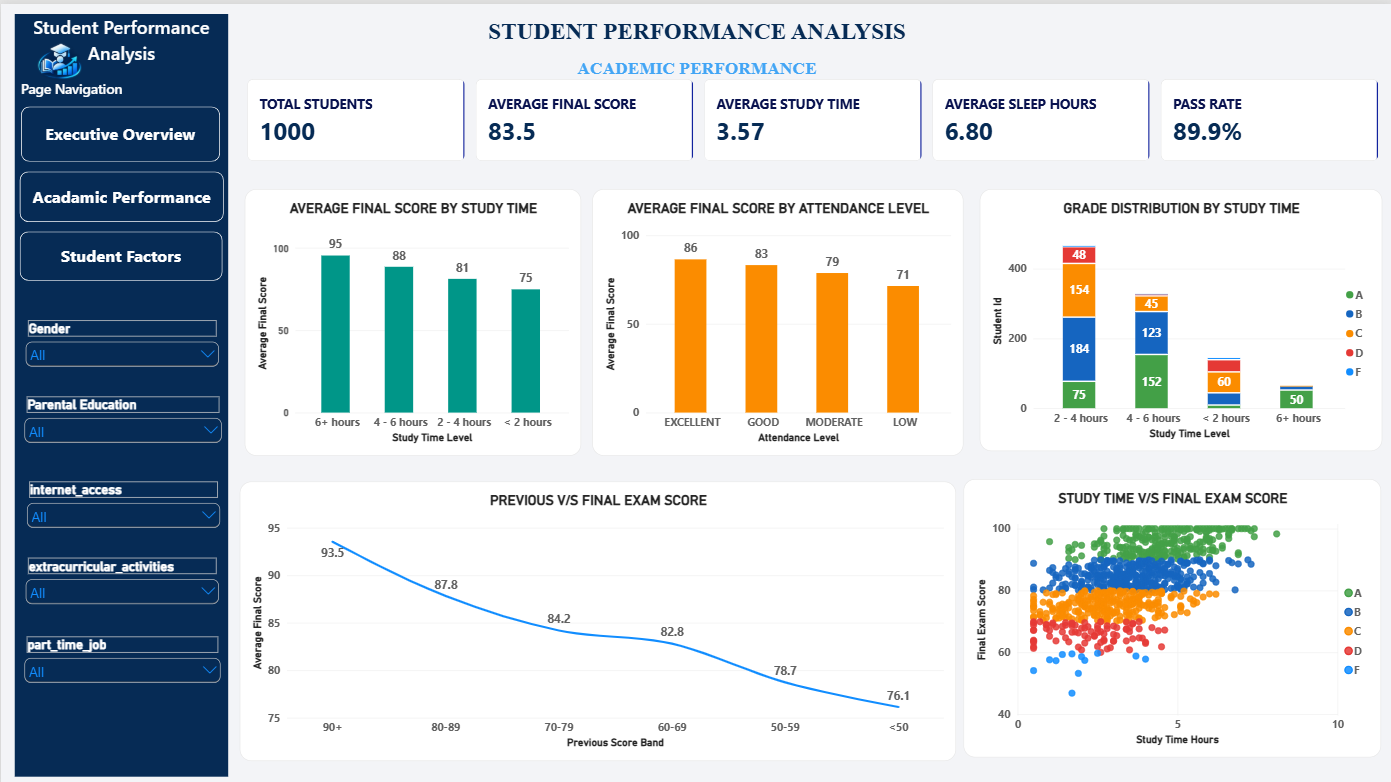

The dashboard page shown, as its layout file describes it:
{"tool":"powerbi","page":{"name":"Acadamic Performance","canvas":[1920,1080],"ordinal":1},"visuals":[{"type":"textbox","box":[0,0,1920.4,123.5],"z":0},{"type":"textbox","box":[0,255,329,385],"z":1000},{"type":"textbox","title":"Student Performance","box":[18.5,14.4,294.3,1051.8],"z":2000},{"type":"textbox","title":"Page Navigation","box":[27.1,103.4,313.6,37.3],"z":3000},{"type":"slicer","fields":{"Values":["student_performance_dataset.gender"]},"box":[29.1,436.4,275.8,72],"z":4000},{"type":"slicer","fields":{"Values":["student_performance_dataset.parental_education"]},"box":[27.3,541.8,282,74.1],"z":5000},{"type":"slicer","fields":{"Values":["student_performance_dataset.internet_access"]},"box":[30.9,658.2,275.8,82.3],"z":6000},{"type":"slicer","fields":{"Values":["student_performance_dataset.extracurricular_activities"]},"box":[29.1,763.6,276.4,87.3],"z":7000},{"type":"slicer","fields":{"Values":["student_performance_dataset.part_time_job"]},"box":[27.3,872.7,280,92.7],"z":8000},{"type":"actionButton","box":[27.1,140.7,274.6,76.3],"z":9000},{"type":"actionButton","box":[25.4,230.5,281.4,69.5],"z":10000},{"type":"actionButton","box":[25.4,313.6,279.7,67.8],"z":11000},{"type":"columnChart","title":"GRADE DISTRIBUTION BY STUDY TIME","fields":{"Category":["student_performance_dataset.Study Time Level"],"Y":["CountNonNull(student_performance_dataset.student_id)"],"Series":["student_performance_dataset.final_grade"]},"box":[1350,255.2,555.6,361.9],"z":12000},{"type":"lineChart","title":"PREVIOUS V/S FINAL EXAM SCORE","fields":{"Category":["student_performance_dataset.Previous Score Band"],"Y":["student_performance_dataset.Average Final Score"]},"box":[329.4,658.7,988.1,385.5],"z":13000},{"type":"scatterChart","title":"STUDY TIME V/S FINAL EXAM SCORE","fields":{"X":["Sum(student_performance_dataset.study_time_hours)1"],"Series":["student_performance_dataset.final_grade"],"Y":["student_performance_dataset.final_exam_score"]},"box":[1328,656,576,384],"z":14000},{"type":"cardVisual","fields":{"Data":["student_performance_dataset.Total Students","student_performance_dataset.Average Final Score","student_performance_dataset.Average Study Time","student_performance_dataset.average sleep hours","student_performance_dataset.Pass Rate"]},"box":[340.2,103.2,1560.2,113.2],"z":15000},{"type":"image","box":[32,48,96,64],"z":16000},{"type":"clusteredColumnChart","title":"AVERAGE FINAL SCORE BY STUDY TIME","fields":{"Category":["student_performance_dataset.Study Time Level"],"Y":["student_performance_dataset.Average Final Score"]},"box":[336,256,464,368],"z":17000},{"type":"clusteredColumnChart","title":"AVERAGE FINAL SCORE  BY ATTENDANCE LEVEL","fields":{"Category":["student_performance_dataset.Attendance Level"],"Y":["student_performance_dataset.Average Final Score"]},"box":[816,256,512,368],"z":18000}]}

Visuals, with their boxes in screenshot pixels (x1, y1, x2, y2), scaled from the page's 1920x1080 canvas onto the 1391x782 screenshot:
textbox: [x1=0, y1=0, x2=1390, y2=89]
textbox: [x1=0, y1=185, x2=238, y2=463]
"Student Performance" textbox: [x1=13, y1=10, x2=227, y2=772]
"Page Navigation" textbox: [x1=20, y1=75, x2=247, y2=102]
slicer - student_performance_dataset.gender: [x1=21, y1=316, x2=221, y2=368]
slicer - student_performance_dataset.parental_education: [x1=20, y1=392, x2=224, y2=446]
slicer - student_performance_dataset.internet_access: [x1=22, y1=477, x2=222, y2=536]
slicer - student_performance_dataset.extracurricular_activities: [x1=21, y1=553, x2=221, y2=616]
slicer - student_performance_dataset.part_time_job: [x1=20, y1=632, x2=223, y2=699]
actionButton: [x1=20, y1=102, x2=219, y2=157]
actionButton: [x1=18, y1=167, x2=222, y2=217]
actionButton: [x1=18, y1=227, x2=221, y2=276]
"GRADE DISTRIBUTION BY STUDY TIME" columnChart: [x1=978, y1=185, x2=1381, y2=447]
"PREVIOUS V/S FINAL EXAM SCORE" lineChart: [x1=239, y1=477, x2=955, y2=756]
"STUDY TIME V/S FINAL EXAM SCORE" scatterChart: [x1=962, y1=475, x2=1379, y2=753]
cardVisual - student_performance_dataset.Total Students x student_performance_dataset.Average Final Score: [x1=246, y1=75, x2=1377, y2=157]
image: [x1=23, y1=35, x2=93, y2=81]
"AVERAGE FINAL SCORE BY STUDY TIME" clusteredColumnChart: [x1=243, y1=185, x2=580, y2=452]
"AVERAGE FINAL SCORE  BY ATTENDANCE LEVEL" clusteredColumnChart: [x1=591, y1=185, x2=962, y2=452]
